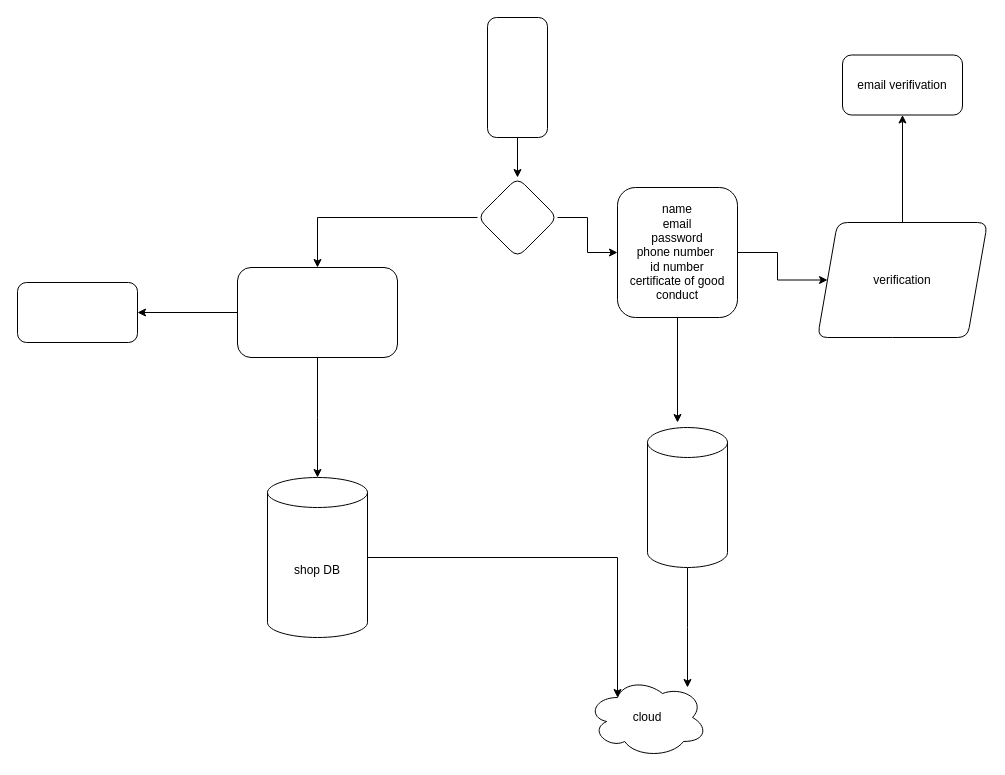
Image size: 1005x775. Some labels were removed from this diagram. Here are the shapes that lost their labels. From the top down, the centre of each, then its label:
[517,77]: client signup
[317,312]: shop signup 1.name of the shop 2.location on the google map 3.profile logo
[687,497]: regestration DB
